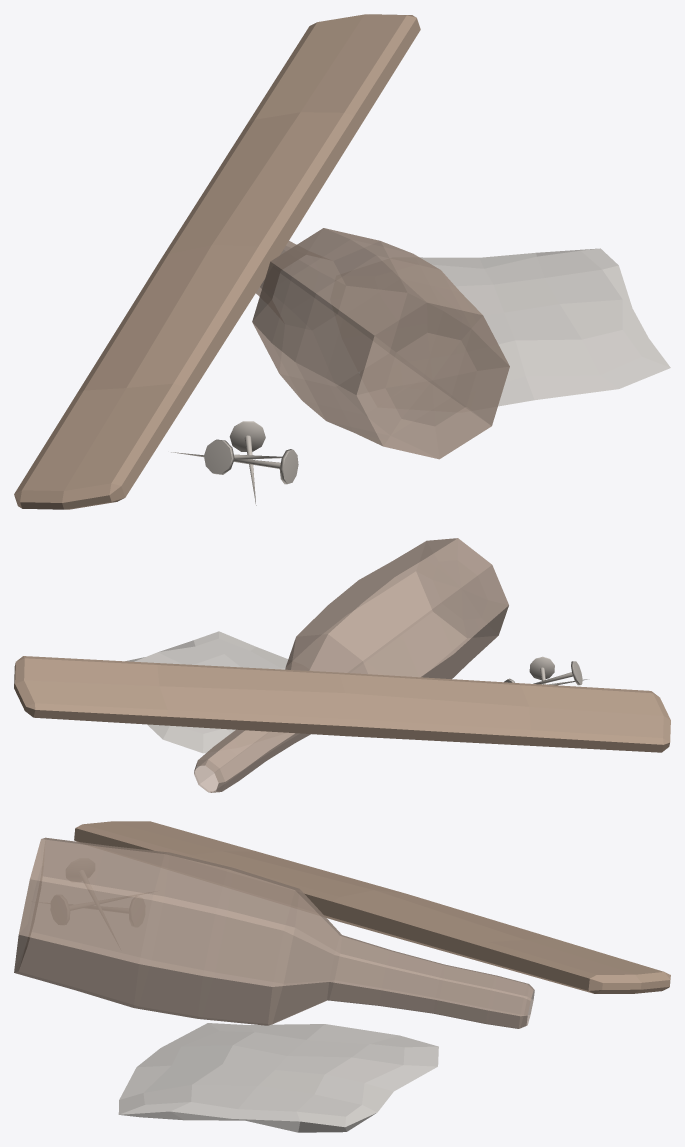
File: junk.fbx
3 views of the same model, one above another, from view 1: azimuth 30°, elevation 25°; view 2: azimuth 150°, elevation 25°; view 3: azimuth 270°, elevation 25° (orthographic). The views are drawn at different scales.
Parts seen in each view (by area): view 1: woodPlank6, bottle6, cloth3, nail3, nail1, nail2; view 2: woodPlank6, bottle6, cloth3, nail2; view 3: bottle6, cloth3, woodPlank6.
Part boxes in pixels (x1,y1,x2,y2): woodPlank6: (14,14,420,509); bottle6: (252,228,509,459); cloth3: (358,248,670,406); nail3: (204,439,281,474); nail1: (229,421,265,505); nail2: (171,449,298,484); woodPlank6: (14,656,670,752); bottle6: (194,538,508,792); cloth3: (125,631,288,753); nail2: (529,656,554,684); bottle6: (14,837,534,1028); cloth3: (118,1023,438,1132); woodPlank6: (74,821,670,993).
Bounding box in the file's own units: 5.88 × 1.56 × 5.38.
